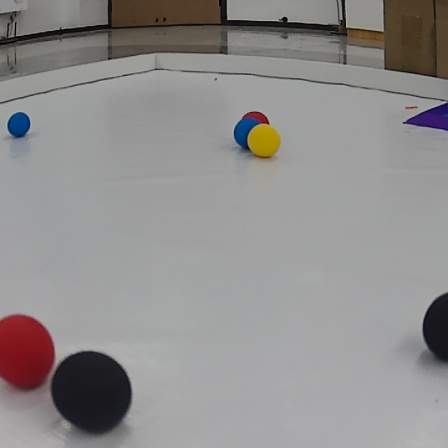black: (50, 353, 143, 434), (424, 291, 448, 361)
blue: (233, 117, 261, 145), (8, 110, 33, 140)
red: (0, 312, 55, 388), (242, 108, 269, 129)
yellow: (249, 126, 281, 158)
